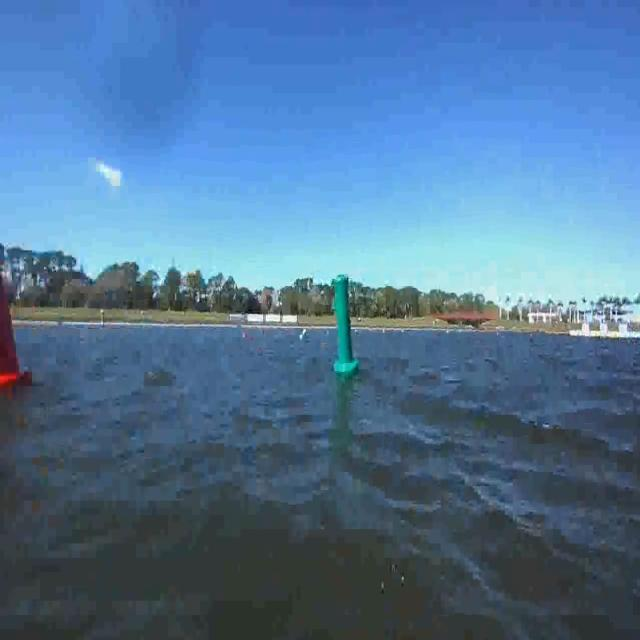green-column-buoy: (334, 274, 359, 377)
red-column-buoy: (0, 266, 32, 387)
